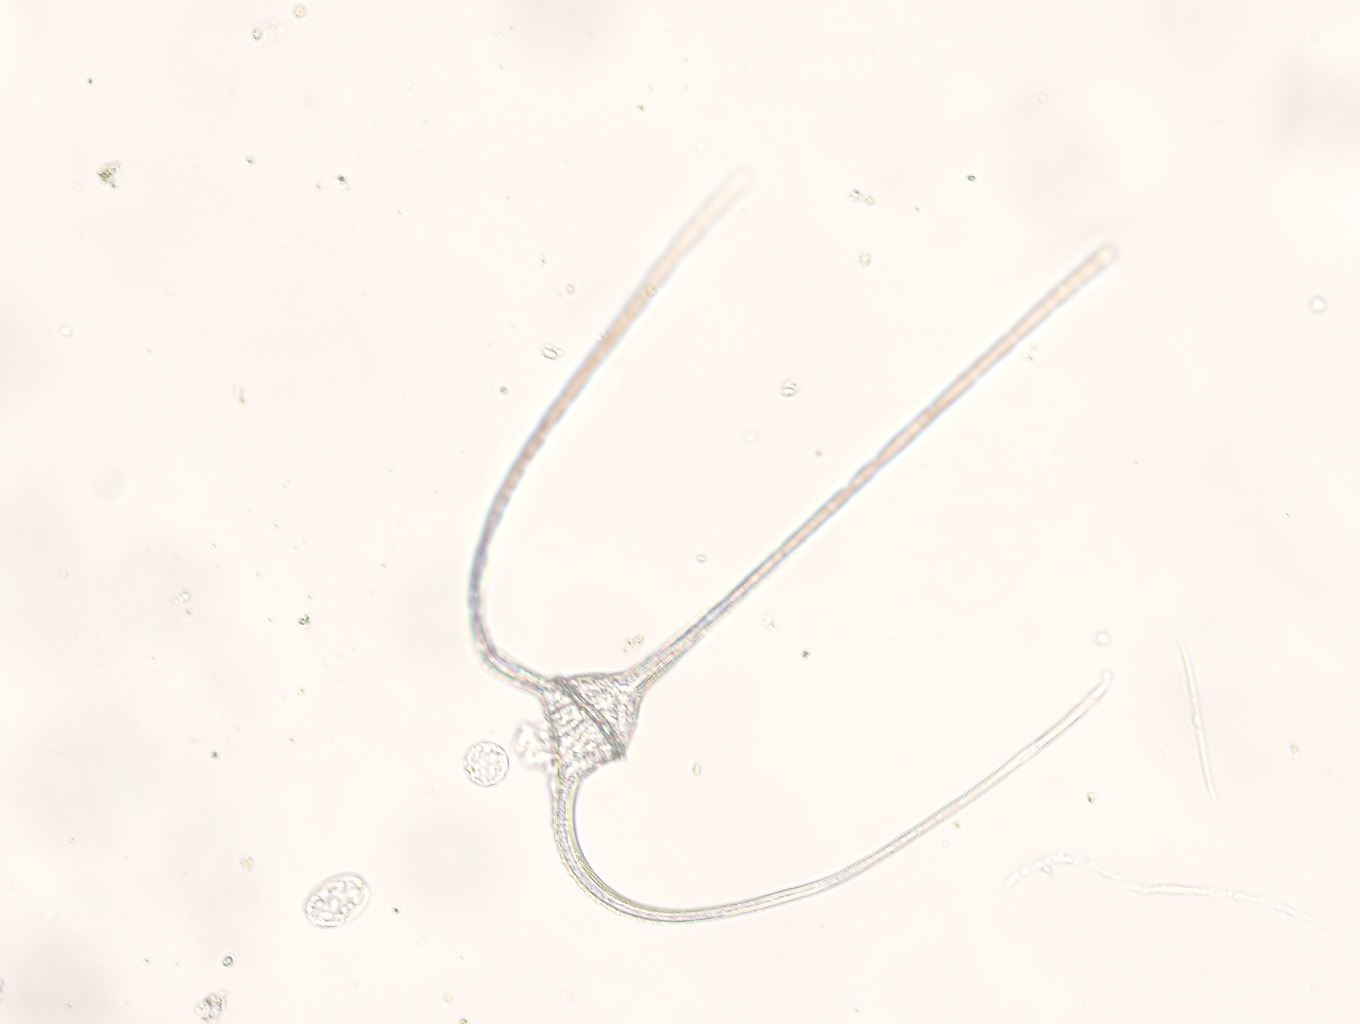thalassionema frauenfeldii: (466, 177, 1123, 926)
